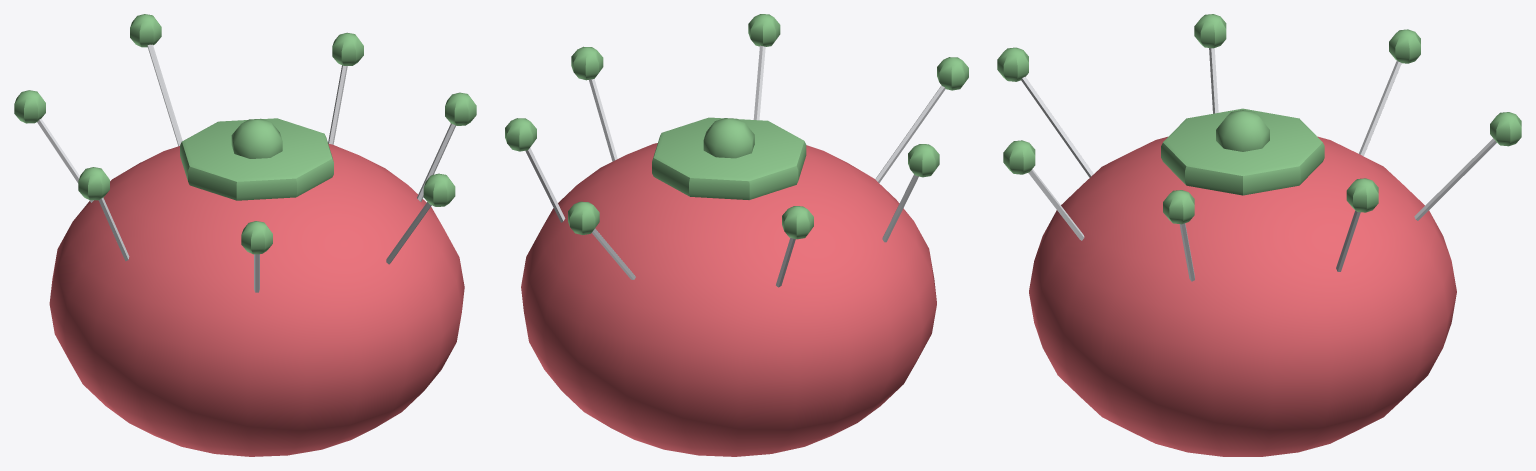
Rendered from pincushion.glb.
3 renders of one model, left to right at view 1: azimuth 30°, elevation 25°; view 2: azimuth 150°, elevation 25°; view 3: azimuth 270°, elevation 25°, orthographic. The views are drawn at different scales.
Visible parts, largest first — view 1: pincushion; view 2: pincushion; view 3: pincushion.
Boxes of the visible parts, left/top/right/bottom form: pincushion: left=14, top=14, right=476, bottom=456; pincushion: left=505, top=14, right=968, bottom=456; pincushion: left=997, top=14, right=1521, bottom=456.
Size of the model in its own units: 0.0713 by 0.0573 by 0.0833.
